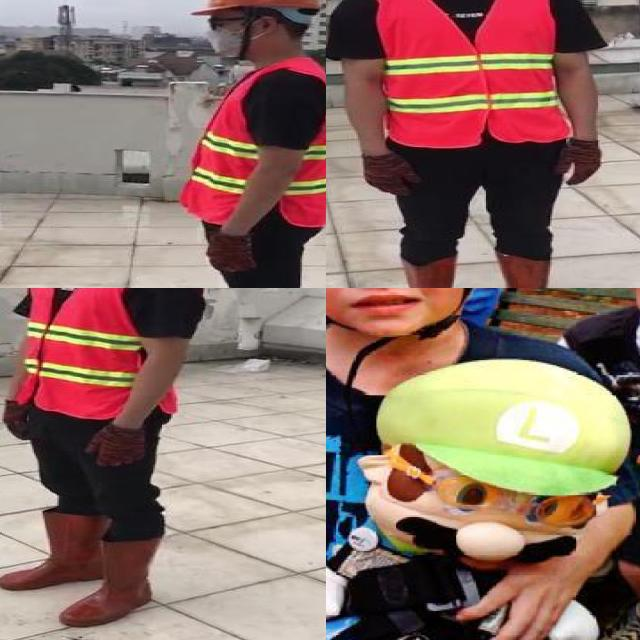boots: (61, 539, 162, 626), (0, 513, 108, 591), (495, 254, 584, 288), (398, 253, 459, 288)
face_mask: (196, 12, 258, 58)
face_nomask: (326, 288, 465, 323)
glasses: (419, 457, 597, 534)
hand_glove: (82, 424, 150, 468), (363, 151, 422, 195), (554, 140, 604, 185), (206, 232, 256, 271), (2, 400, 30, 442)
hand_noglove: (457, 549, 578, 640)
head_helmet: (193, 0, 323, 15)
person: (326, 288, 612, 640), (327, 0, 622, 288), (0, 288, 216, 632), (152, 0, 326, 288), (596, 288, 640, 640)
vest: (370, 0, 573, 146), (16, 288, 181, 419), (183, 70, 277, 226), (277, 60, 326, 227)
